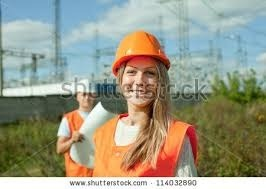helmet: (110, 29, 174, 79), (74, 78, 99, 96)
person with full safety: (90, 28, 201, 177), (54, 78, 107, 170)
safety vest: (97, 116, 194, 176), (63, 112, 96, 176)
